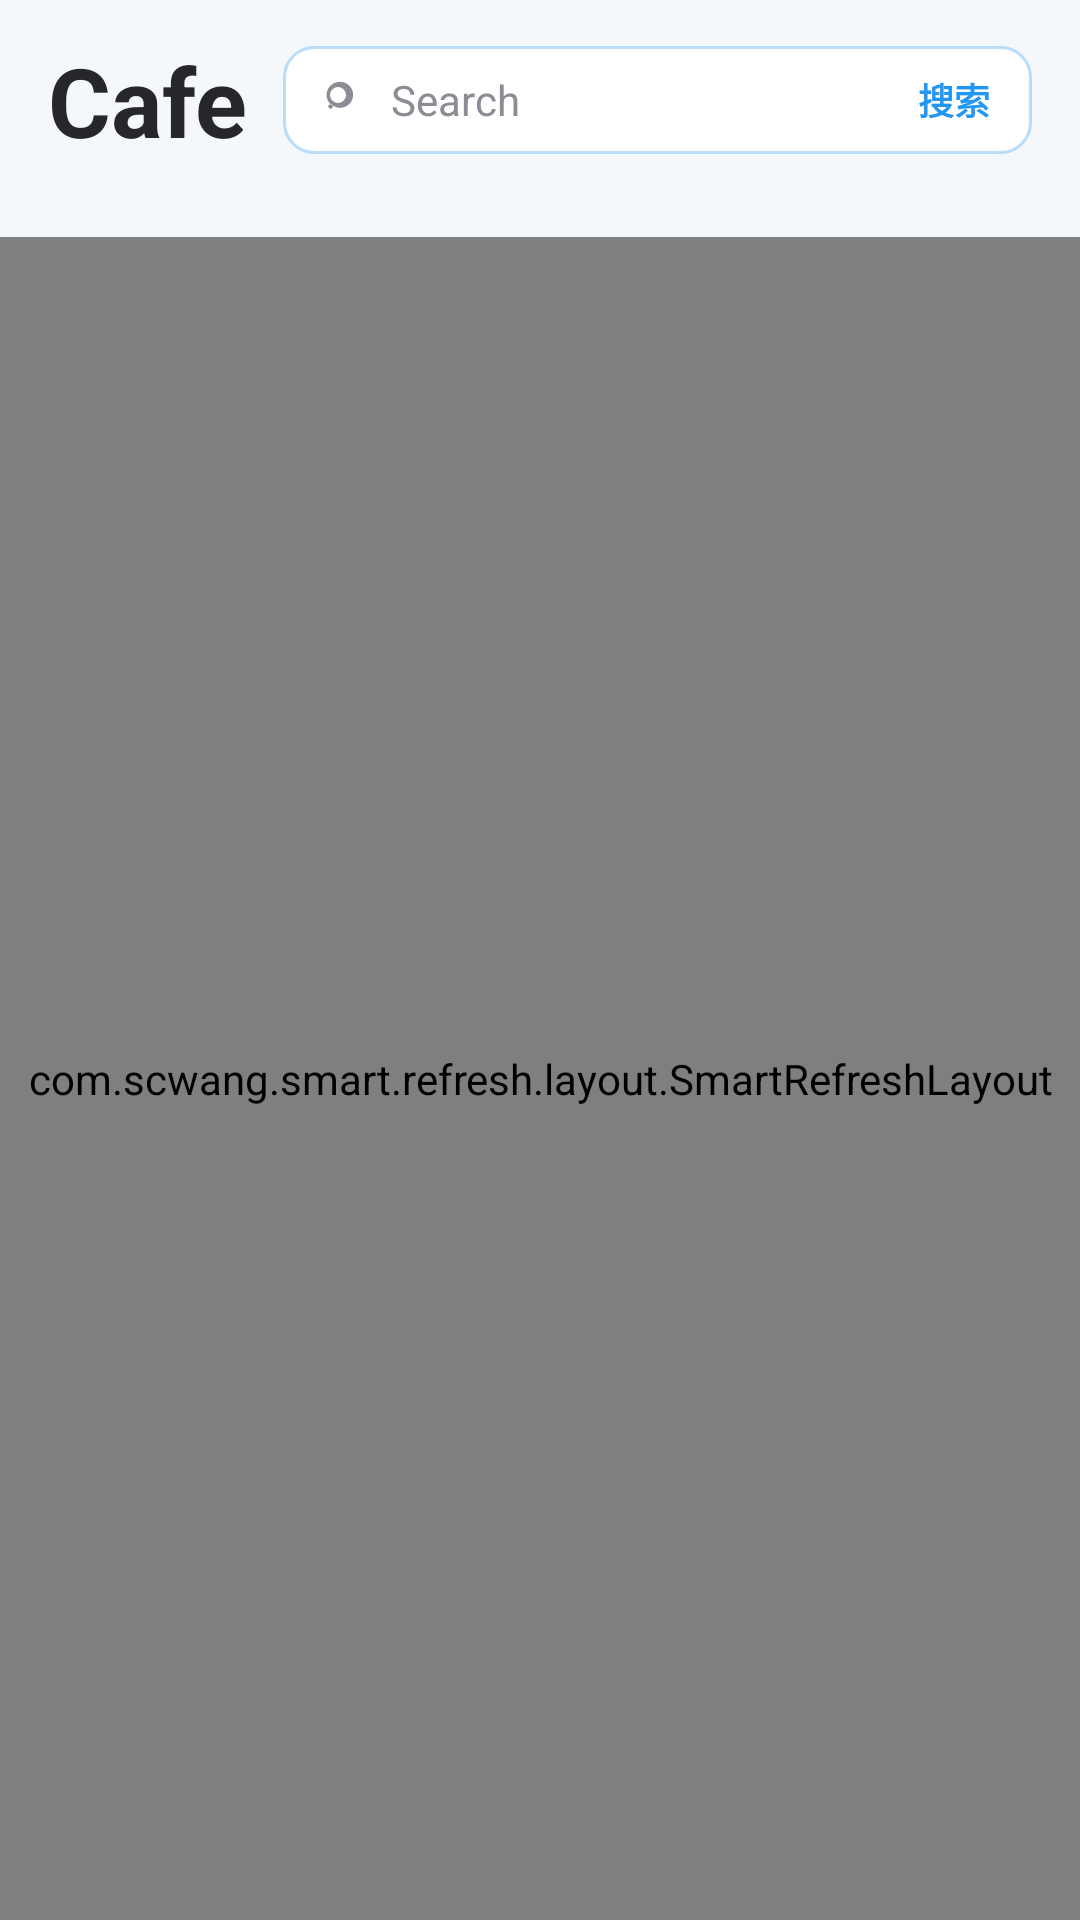

Screen size 1080px×1920px. Icon name, then its box in pixels as {"x1": x1, "y1": y1, "x2": x2, "y2": y2}:
搜索: {"x1": 326, "y1": 81, "x2": 353, "y2": 109}
